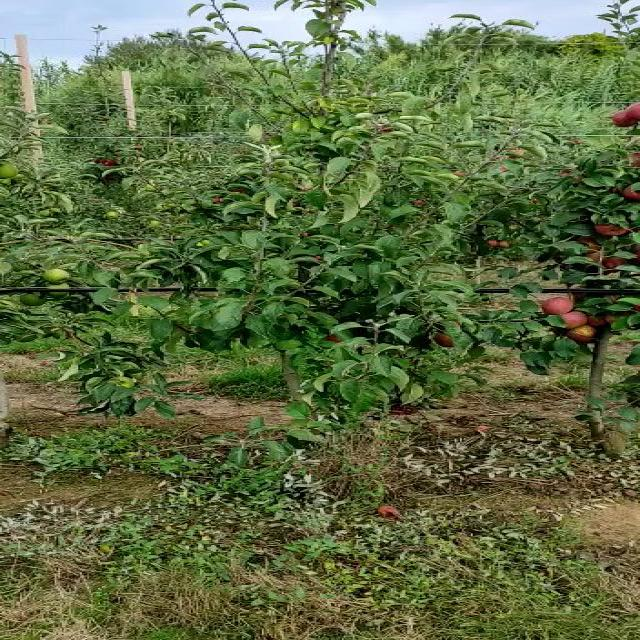100-_ripeness: (593, 217, 629, 235), (567, 327, 600, 342), (558, 312, 584, 331), (542, 296, 569, 313), (613, 110, 638, 128), (434, 334, 464, 348), (591, 315, 614, 330), (623, 102, 640, 121), (622, 184, 640, 201), (487, 239, 511, 248)
